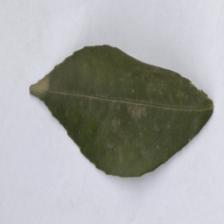healthy: (27, 44, 215, 182)
